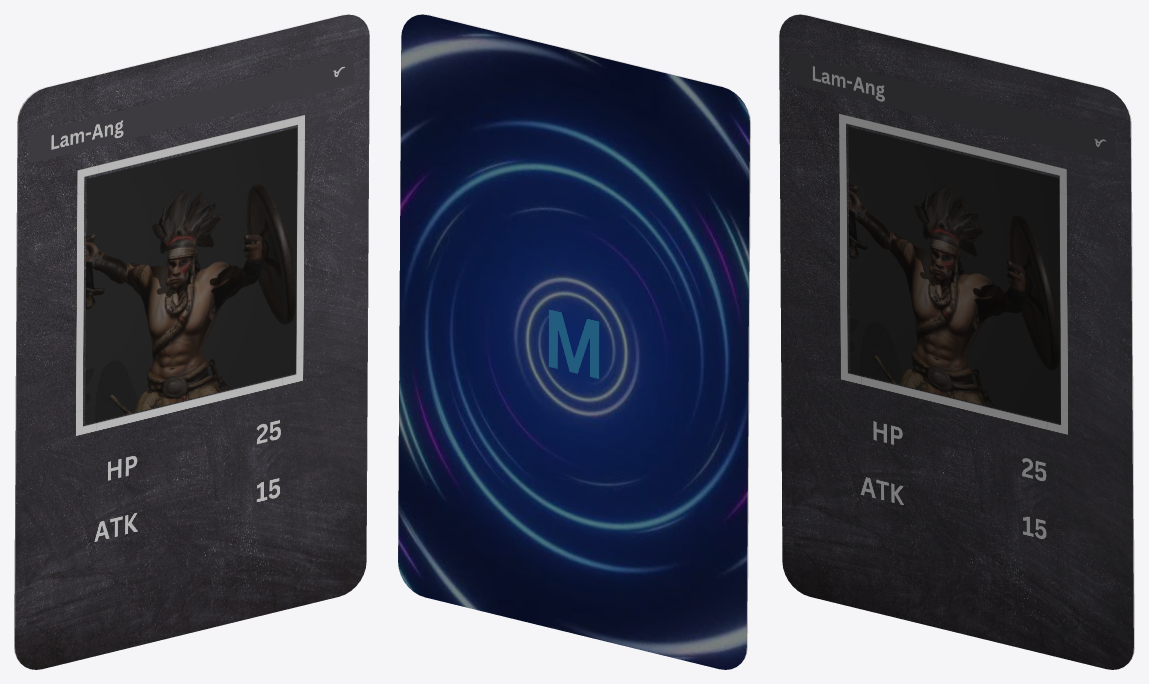
File: Lam-Ang.glb
3 renders of one model, left to right at view 1: azimuth 30°, elevation 25°; view 2: azimuth 150°, elevation 25°; view 3: azimuth 330°, elevation 25°, orthographic.
Visible parts, largest first — view 1: Card; view 2: Card; view 3: Card.
Boxes of the visible parts, x1,y1,x2,y2 form: Card: (14,14,369,669); Card: (398,14,750,669); Card: (779,14,1134,669).
Size of the model in its own units: 0.056 by 0.0889 by 0.00122.
3 materials, 2 textured.
